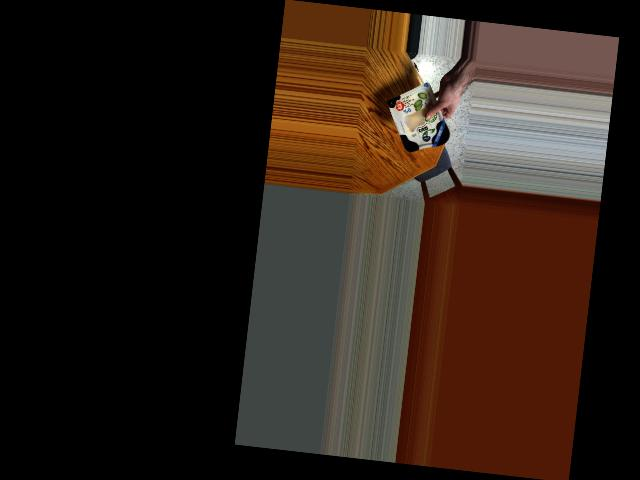cheese: (386, 86, 453, 154)
